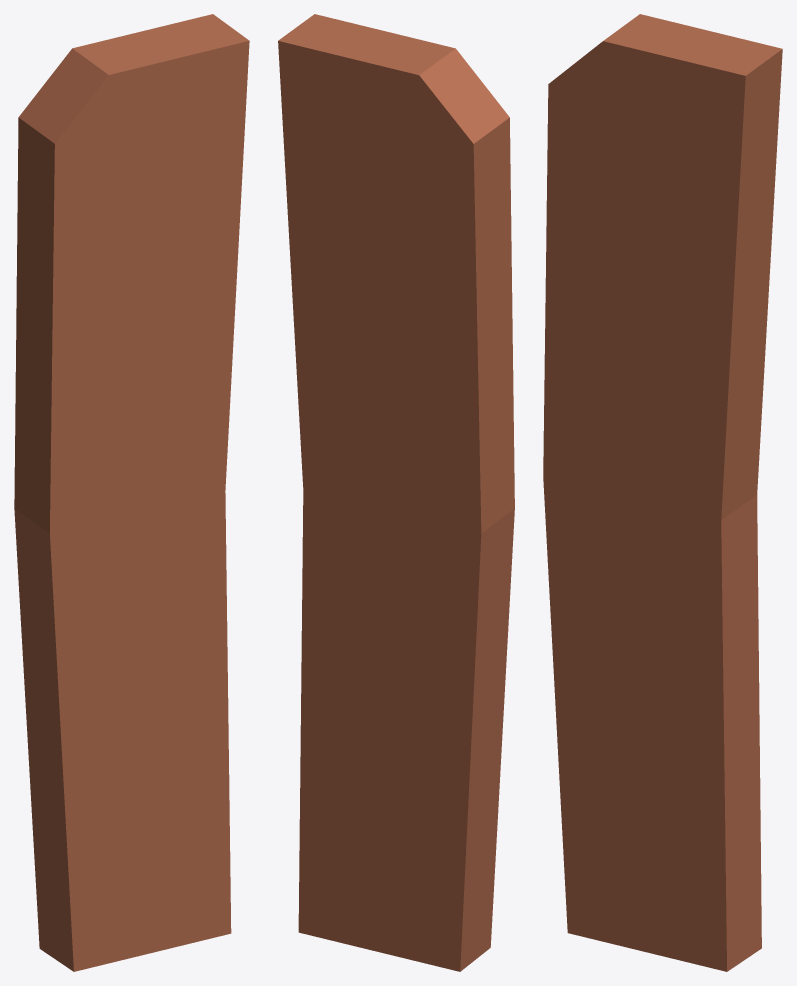
File: Plank 10.fbx
3 views of the same model, side by side, from view 1: azimuth 30°, elevation 25°; view 2: azimuth 150°, elevation 25°; view 3: azimuth 330°, elevation 25° (orthographic).
Visible parts, largest first — view 1: Plank 08; view 2: Plank 08; view 3: Plank 08.
Boxes of the visible parts, box(x1,y1,x2,y2) form: Plank 08: box(14, 14, 249, 971); Plank 08: box(278, 14, 514, 971); Plank 08: box(543, 14, 782, 971).
Bounding box in the file's own units: 23.64 × 100 × 7.46.
